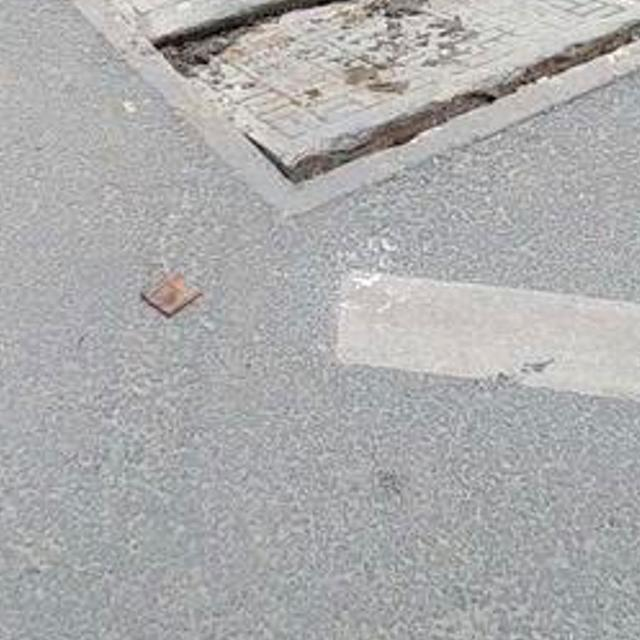broke: (0, 0, 640, 223)
